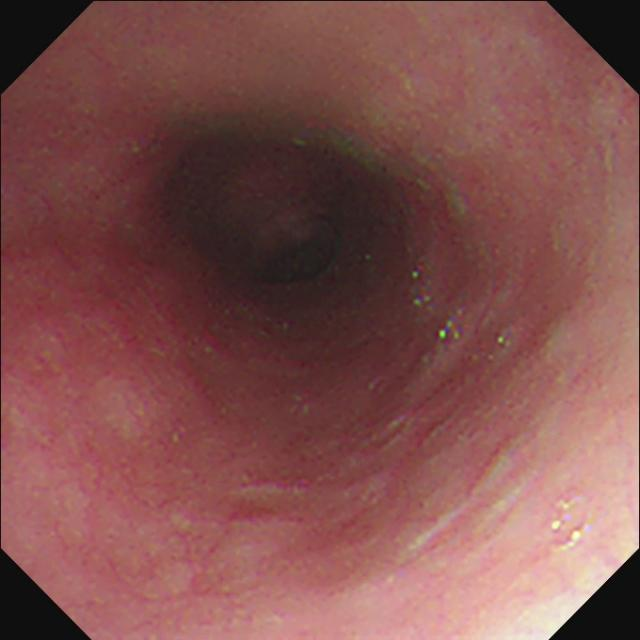E: (153, 124, 394, 307)
